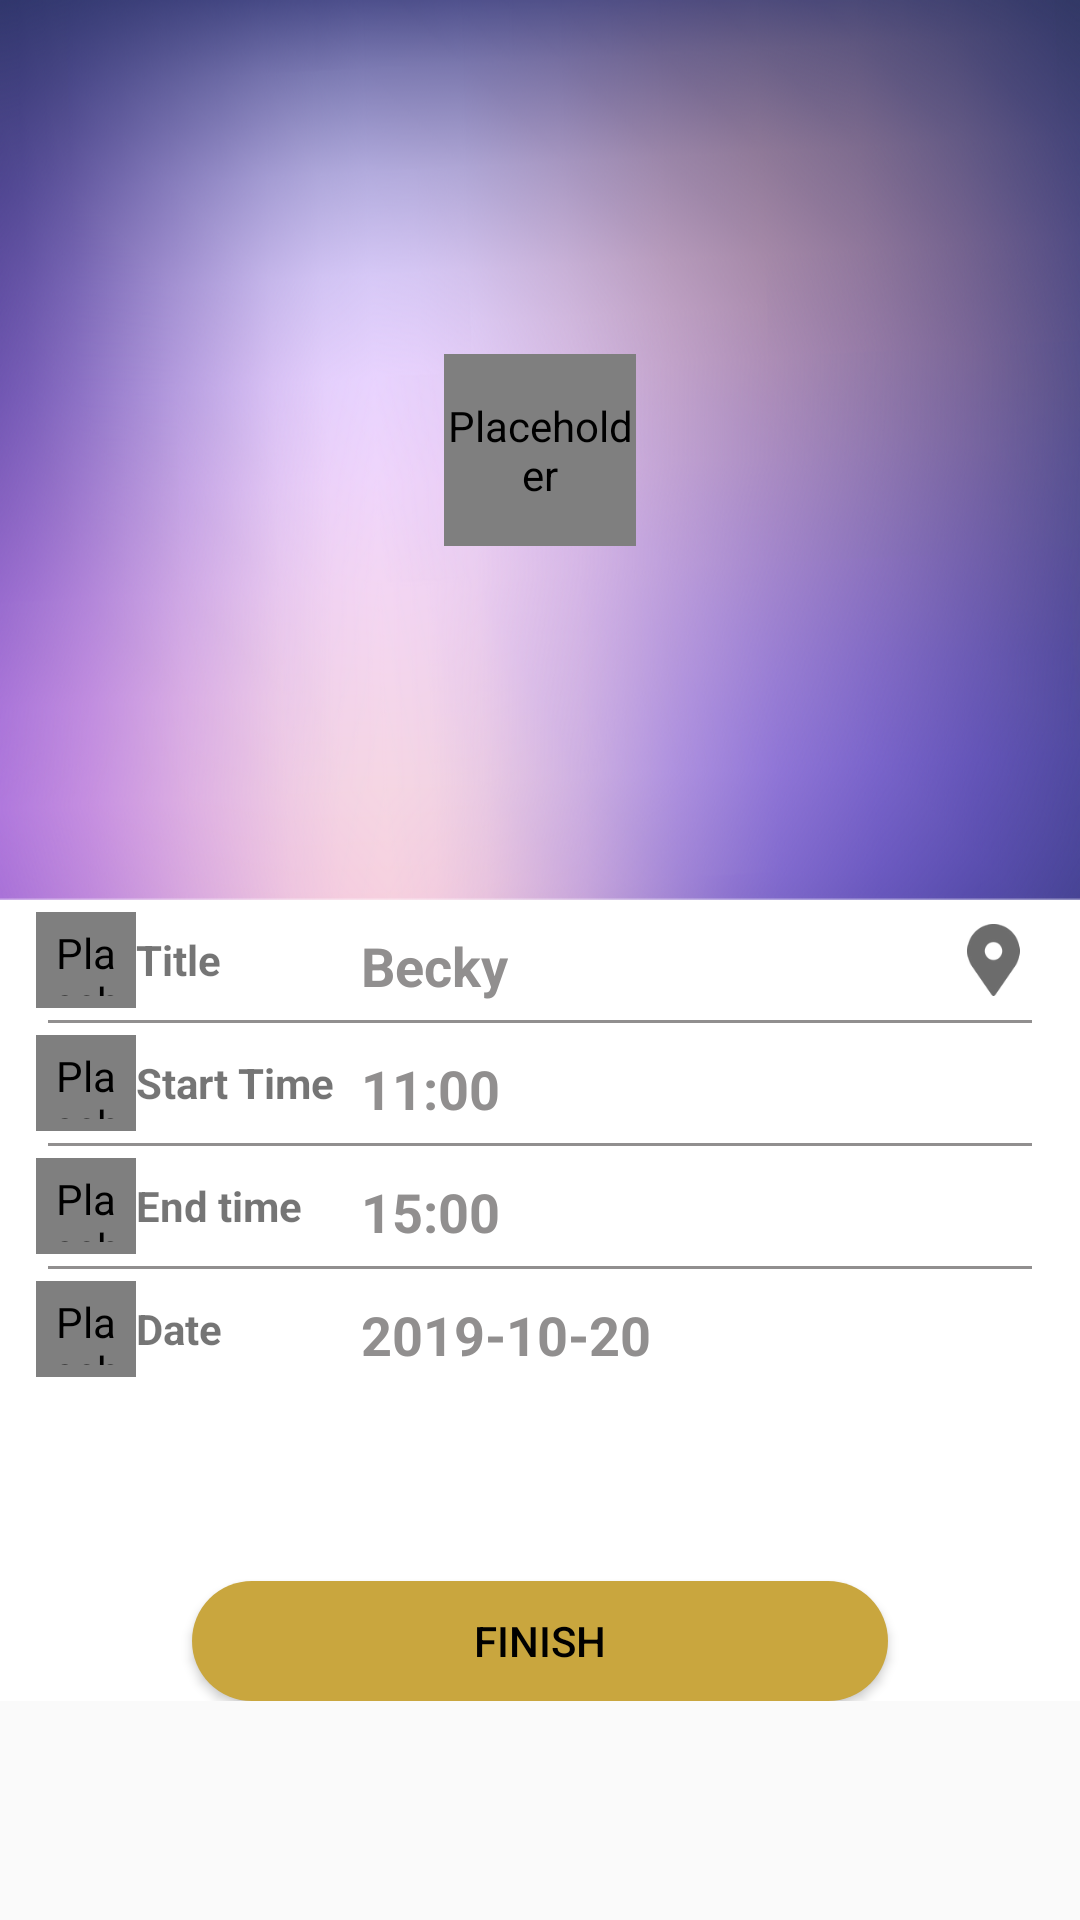

Locate icon controls on the screen. Image size 1080 x 1920, boxes as (x1, y1, x2, y2).
pin: (967, 924, 1020, 996)
